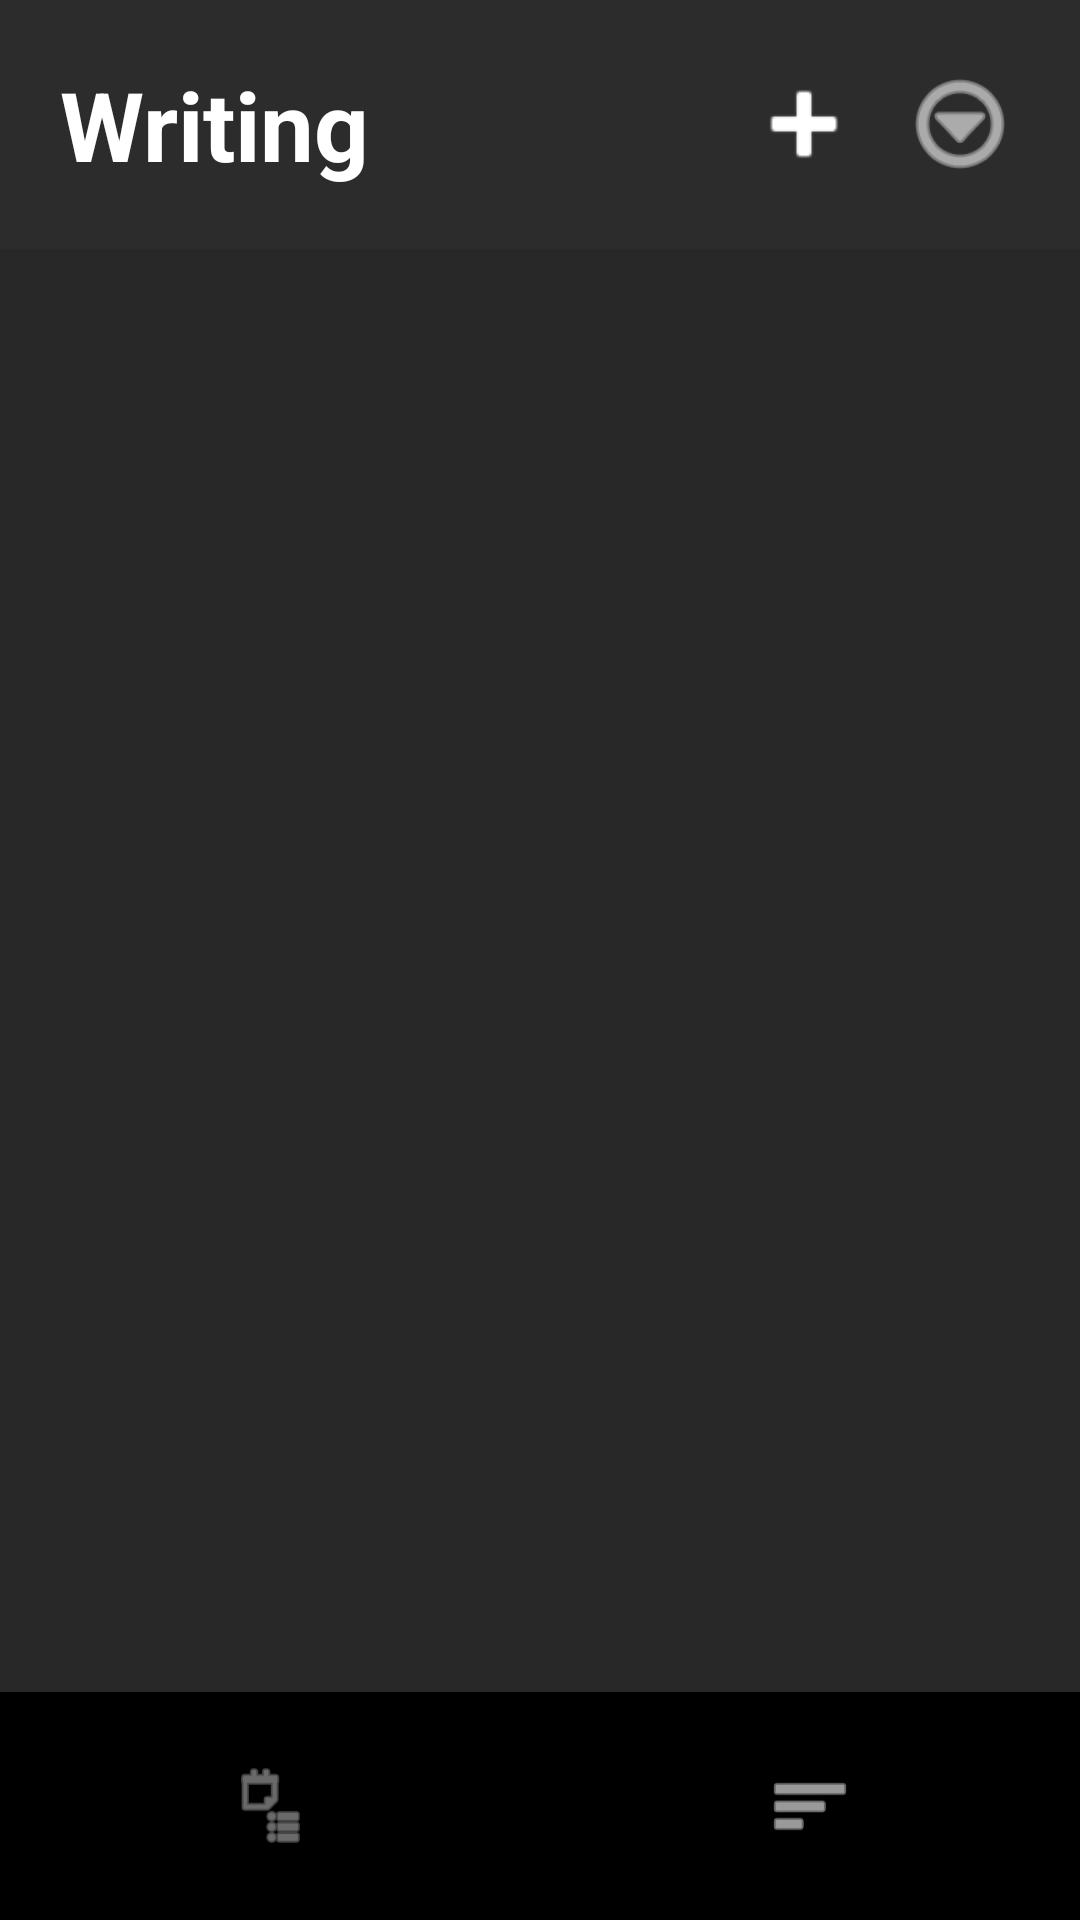

Screen size 1080px x 1920px. Icon name, then its box in pixels as bbox=[x1, y1, x2, y2]:
Add journal entry: bbox=[770, 90, 838, 158]
Menu: bbox=[774, 1783, 846, 1830]
More options: bbox=[915, 80, 1005, 168]
